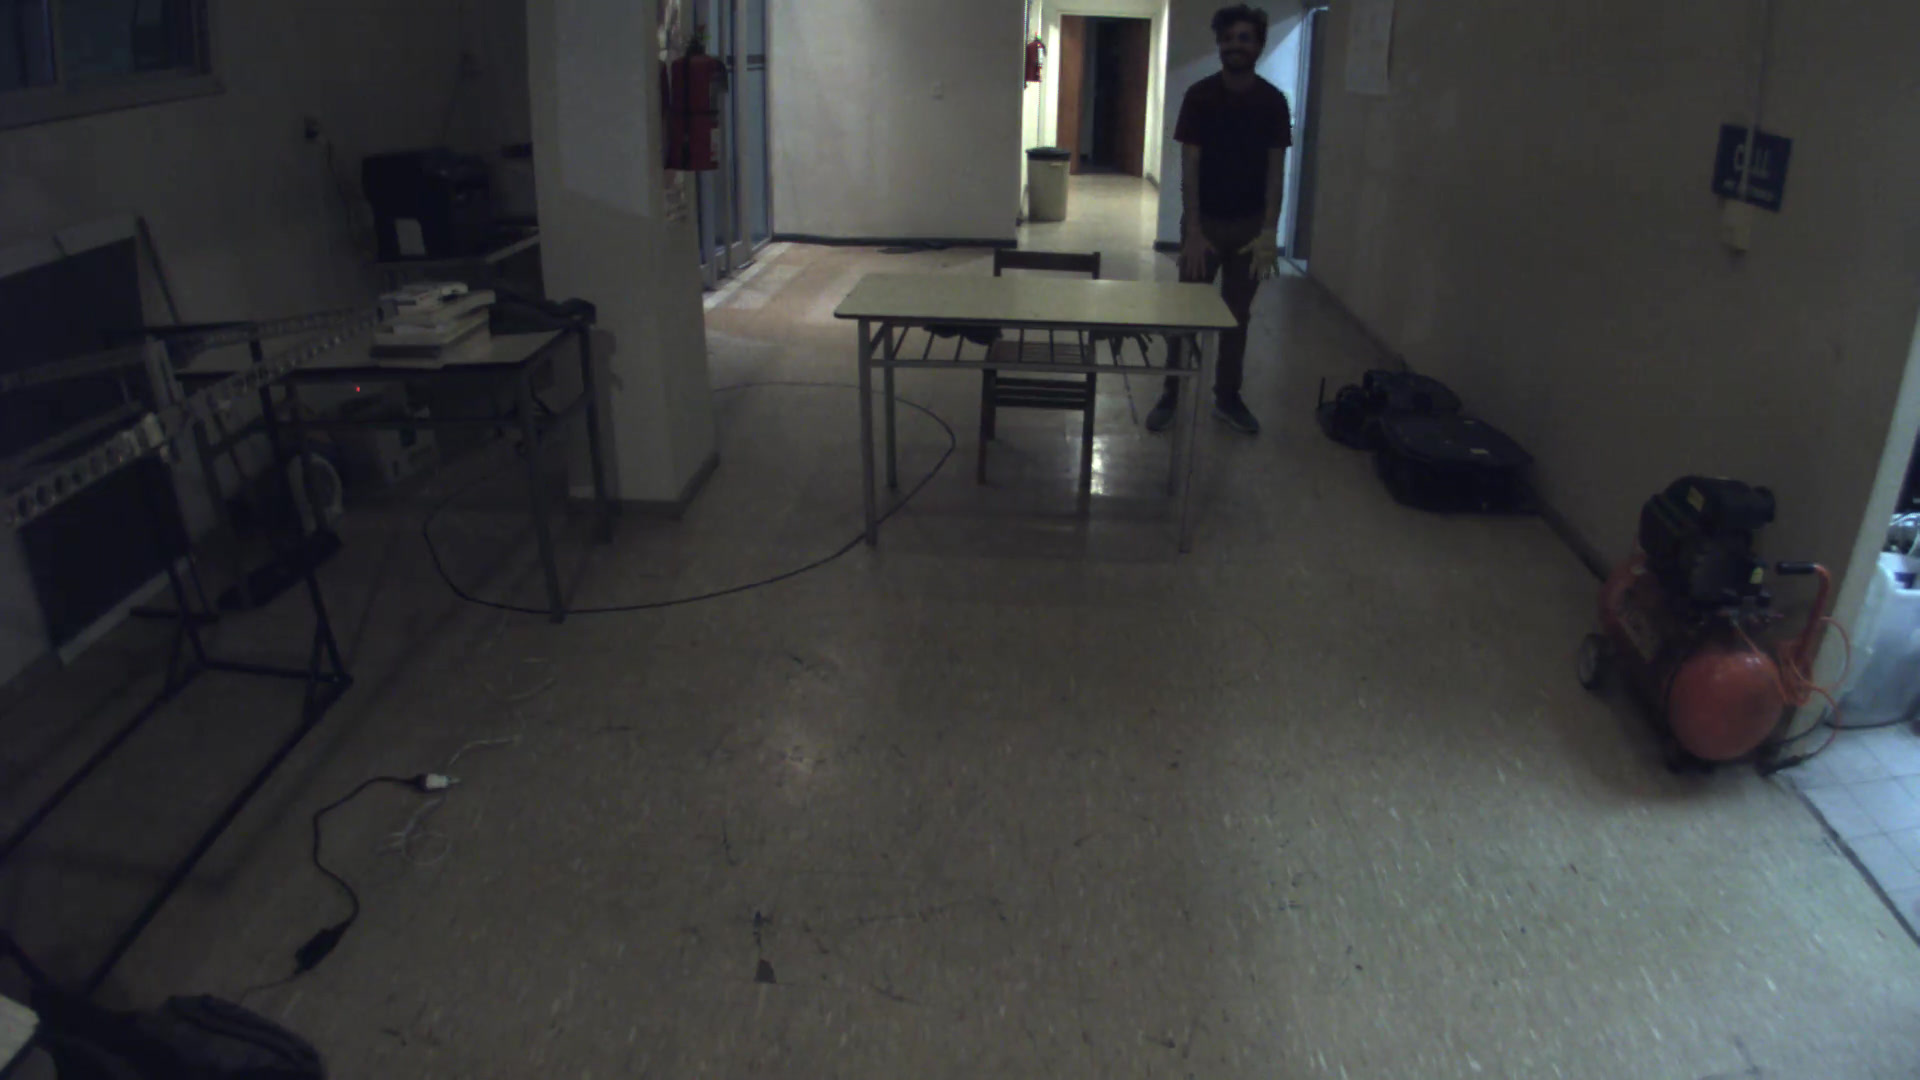hand: (1236, 225, 1299, 291), (1170, 232, 1221, 287)
